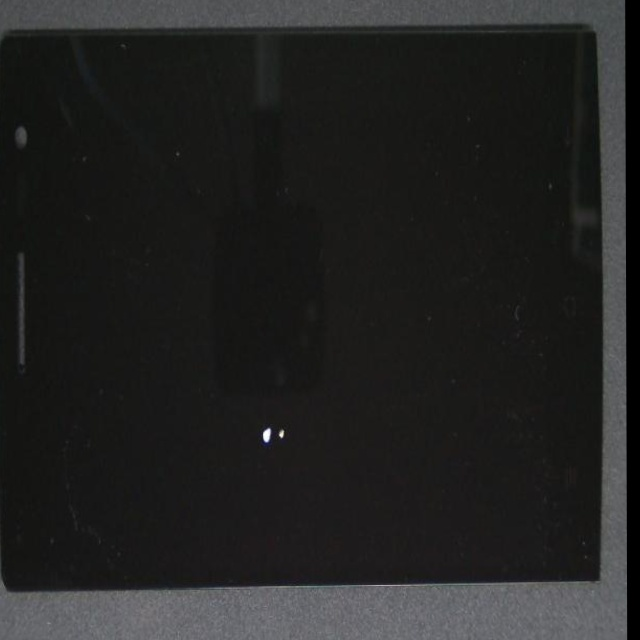stain: (147, 193, 454, 640)
